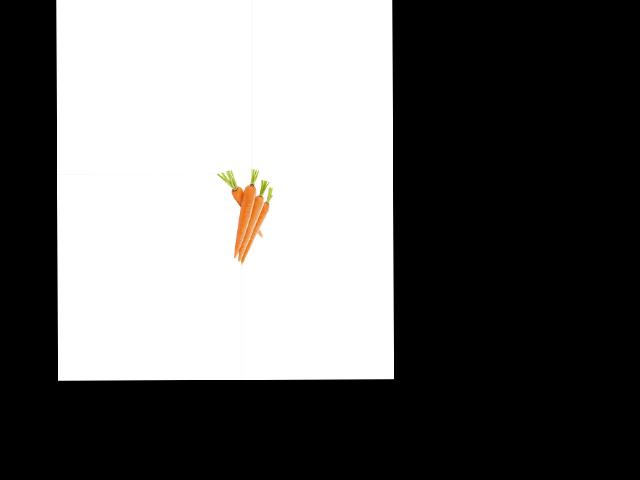carrot: (223, 177, 247, 209)
